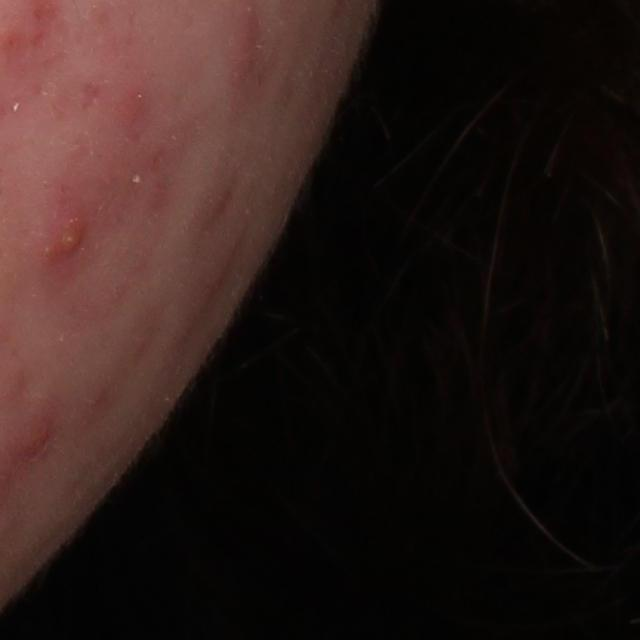papule: (12, 409, 58, 461), (233, 16, 265, 80)
pustule: (42, 216, 94, 262)
